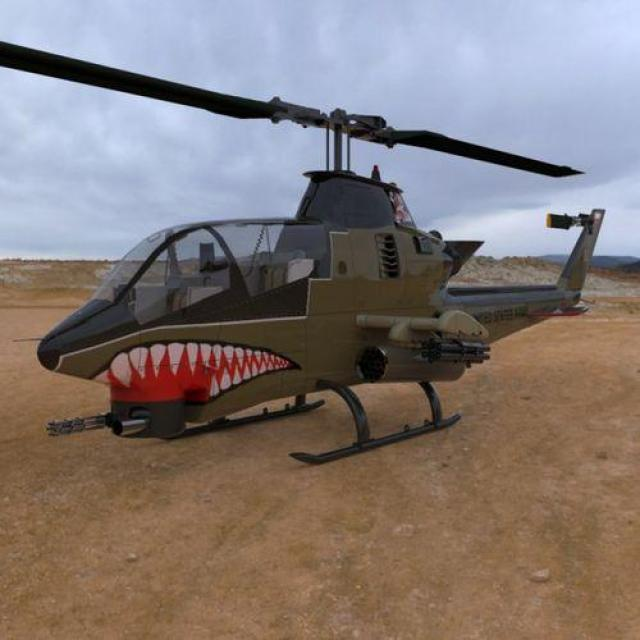MIL_HELO: (0, 31, 630, 474)
